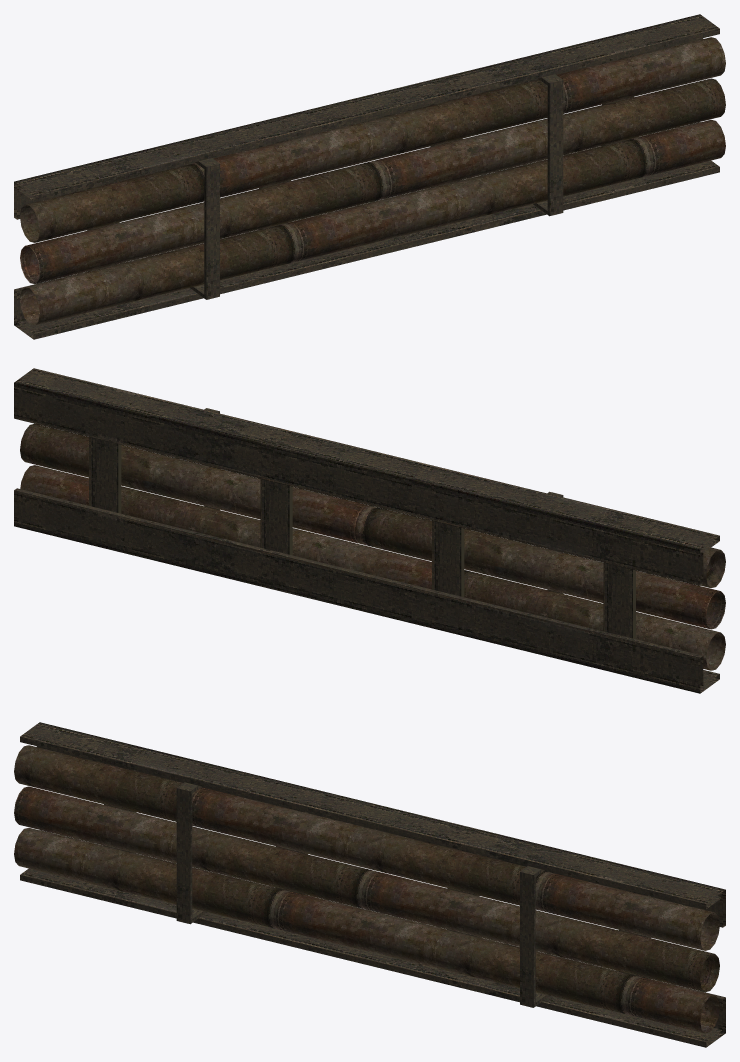
Rendered from pipes_hr_5_middle.glb.
3 views of the same model, one above another, from view 1: azimuth 30°, elevation 25°; view 2: azimuth 150°, elevation 25°; view 3: azimuth 330°, elevation 25° (orthographic).
Parts seen in each view (by area): view 1: pipes_hr_5_middle; view 2: pipes_hr_5_middle; view 3: pipes_hr_5_middle.
Part boxes in pixels (bbox=[...]): pipes_hr_5_middle: bbox=[14, 14, 725, 339]; pipes_hr_5_middle: bbox=[14, 368, 725, 693]; pipes_hr_5_middle: bbox=[14, 722, 725, 1047].
Bounding box in the file's own units: 4 × 0.8 × 0.28.
3 materials, 3 textured.
